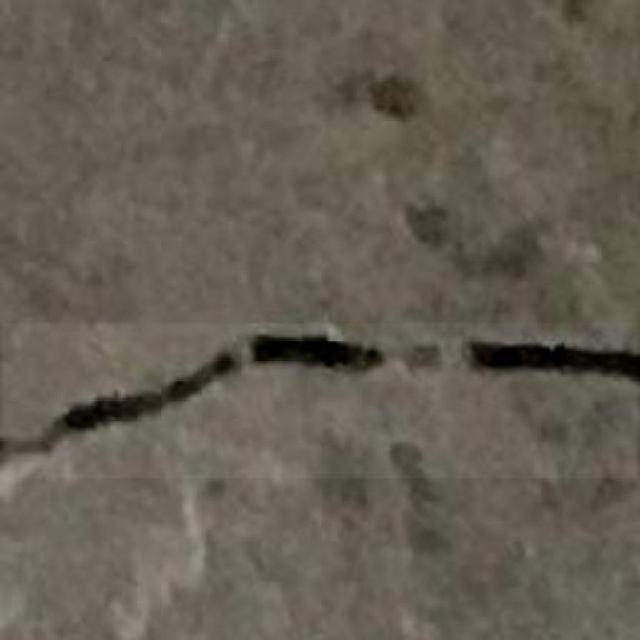Crack: (0, 308, 640, 492)
